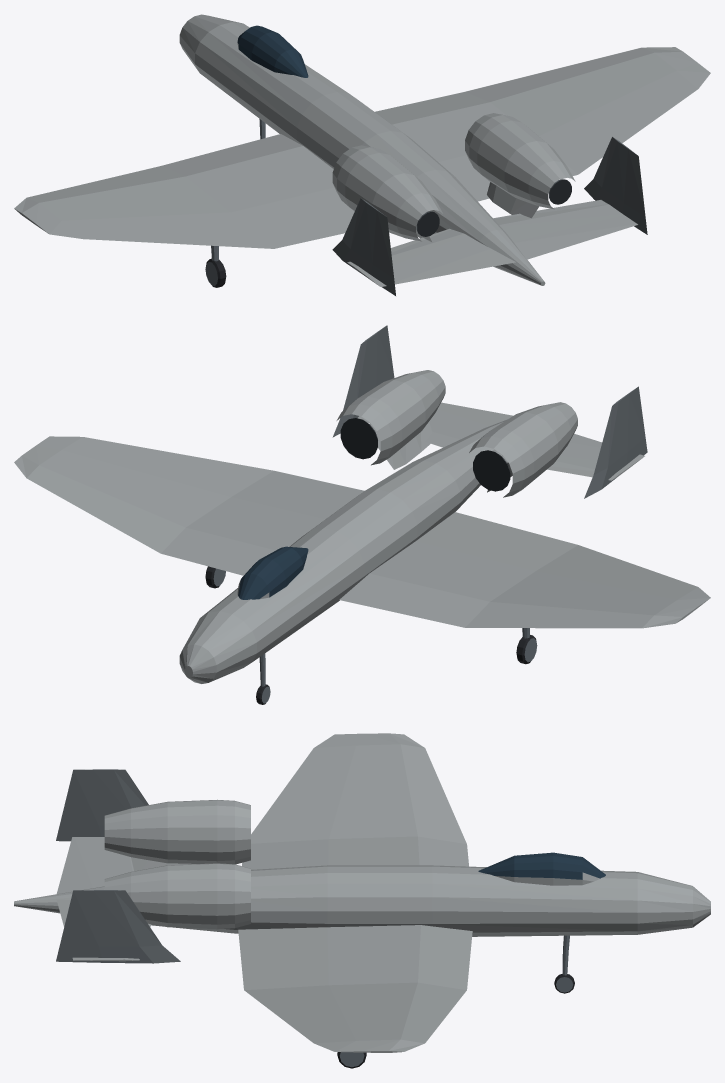
3 views of the same model, one above another, from view 1: azimuth 30°, elevation 25°; view 2: azimuth 150°, elevation 25°; view 3: azimuth 270°, elevation 25° (orthographic).
Visible parts, largest first — view 1: airframe, gear; view 2: airframe, gear; view 3: airframe, gear.
Part boxes in pixels (x1,y1,x2,y2): airframe: (14,14,710,295); gear: (205,119,265,287); airframe: (14,325,710,683); gear: (205,566,537,704); airframe: (14,733,710,1052); gear: (337,935,574,1068).
Size of the model in its own units: 17.53 by 4.19 by 16.26.
